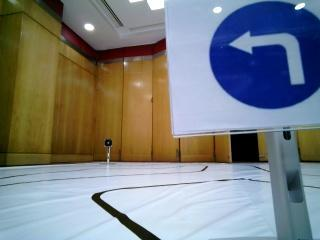left: (162, 0, 320, 135)
